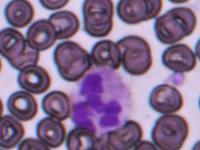N: (72, 66, 132, 136)
